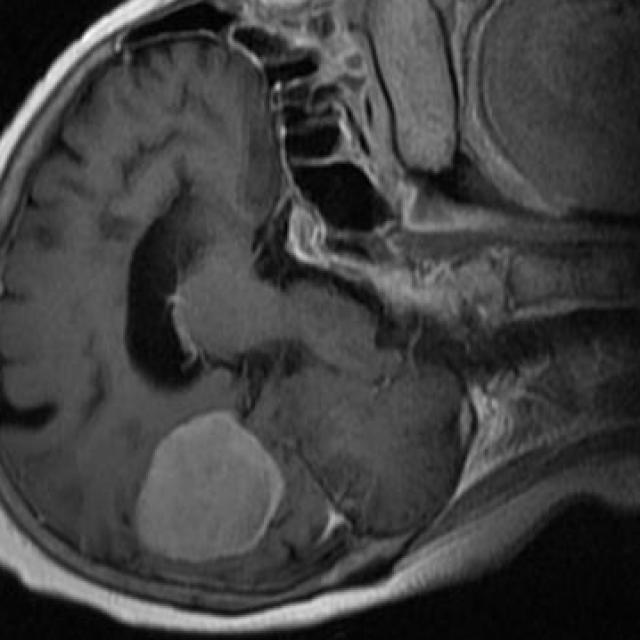meningioma: (135, 412, 283, 563)
